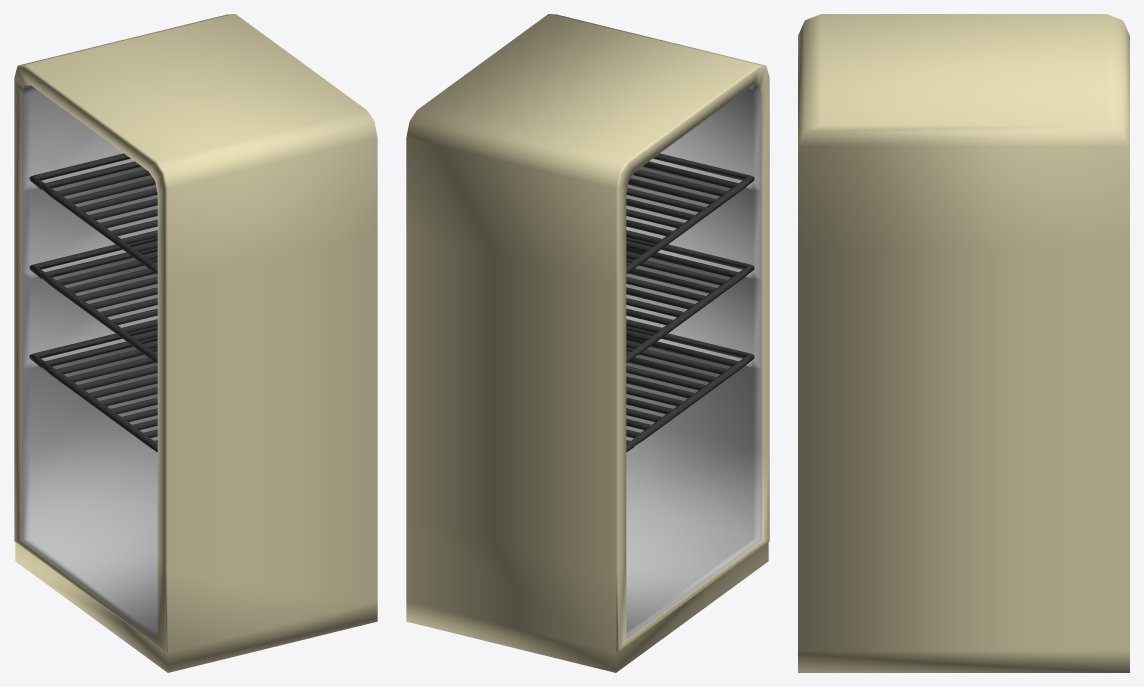
Rendered from Fridge.fbx.
3 renders of one model, left to right at view 1: azimuth 30°, elevation 25°; view 2: azimuth 150°, elevation 25°; view 3: azimuth 270°, elevation 25°, orthographic. The views are drawn at different scales.
Visible parts, largest first — view 1: Fridge Body; view 2: Fridge Body; view 3: Fridge Body.
Part boxes in pixels (x1,y1,x2,y2): Fridge Body: [14, 14, 377, 672]; Fridge Body: [406, 14, 769, 672]; Fridge Body: [798, 14, 1129, 672].
Size of the model in its own units: 75.42 by 172 by 94.27.
